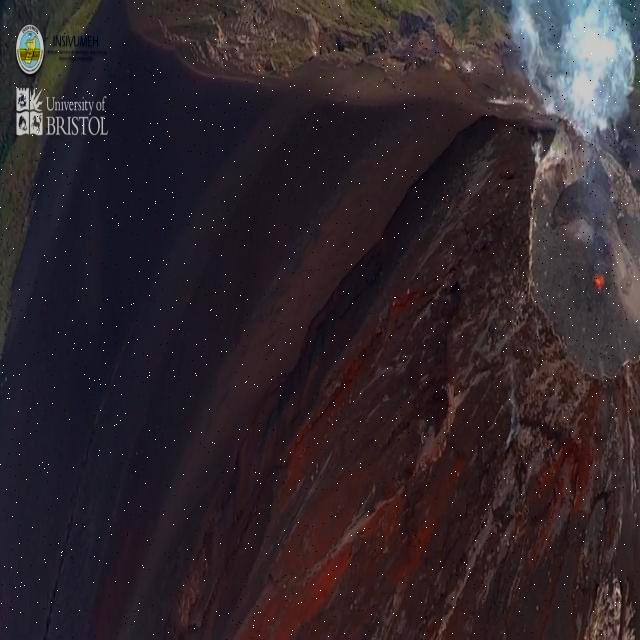Plume: (501, 0, 640, 140)
Summit: (502, 102, 640, 417)
